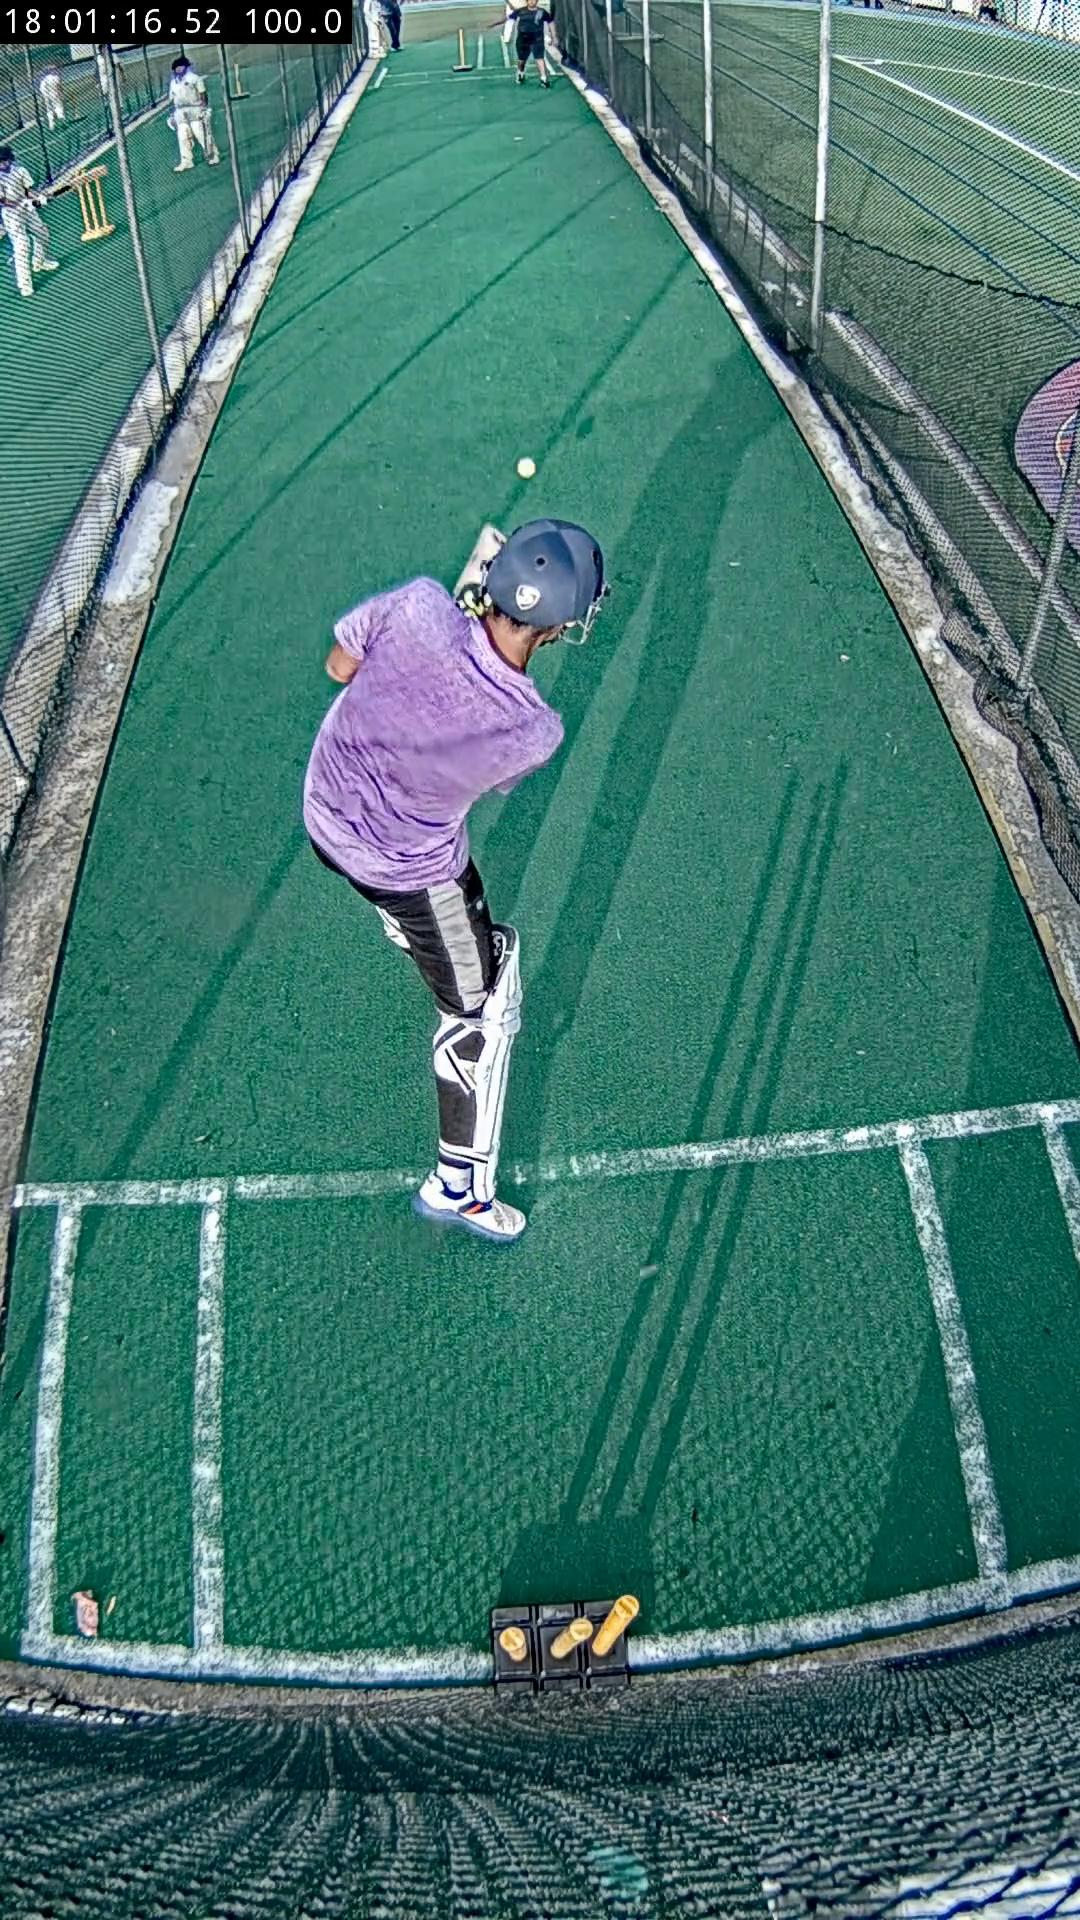ball: (517, 458, 537, 480)
bat: (454, 525, 506, 595)
helmet: (484, 517, 608, 640)
pads: (472, 926, 521, 1195)
stumps: (492, 1594, 641, 1692)
